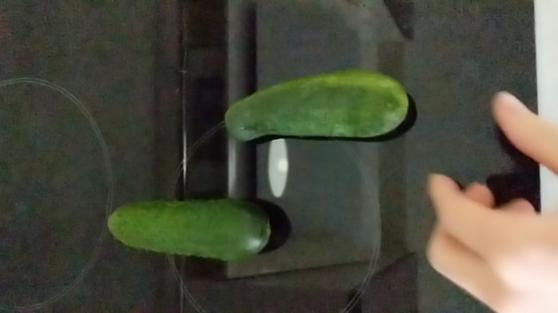cucumber: (223, 69, 411, 143), (105, 197, 273, 259)
